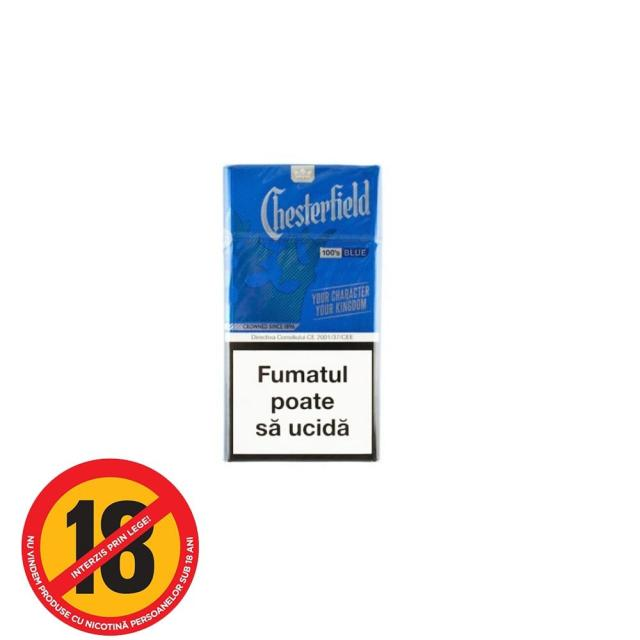chesterfield: (214, 165, 383, 468)
